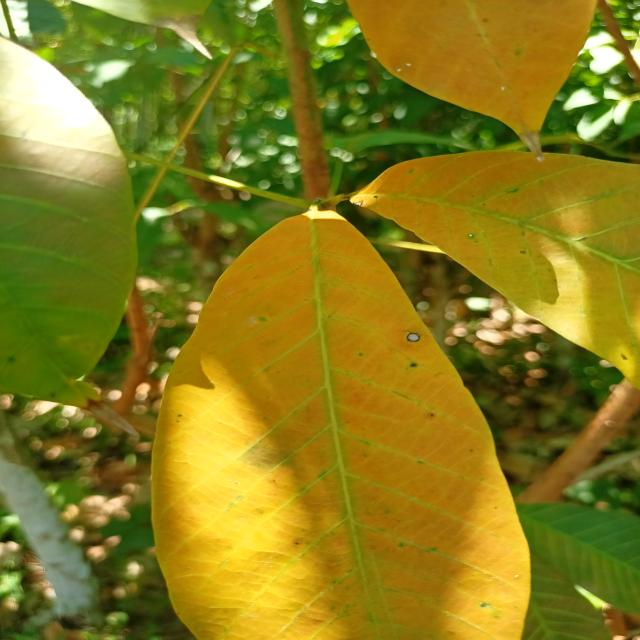Colletotrichum: (406, 333, 420, 342)
